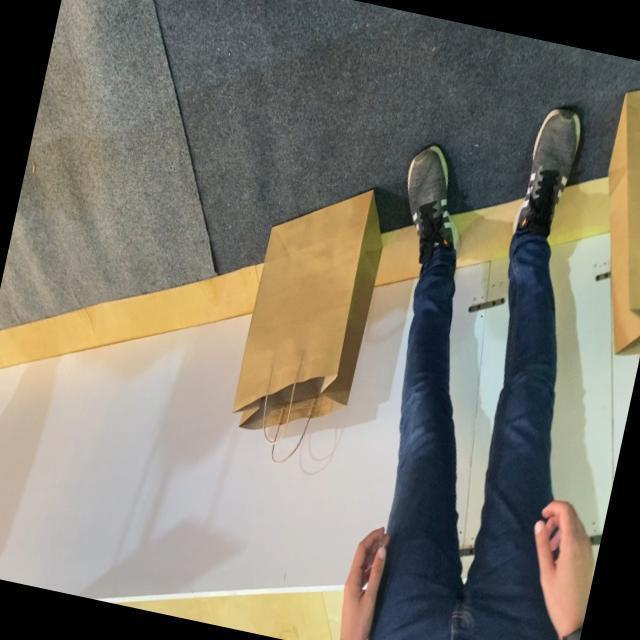Paper_Bag: (222, 170, 394, 476)
